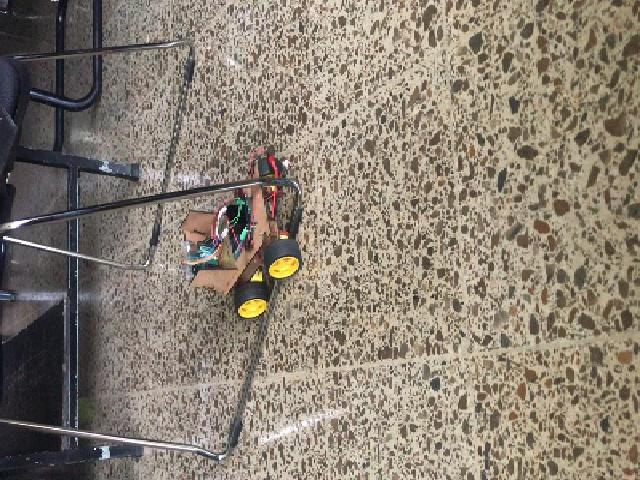Robot: (181, 157, 299, 317)
